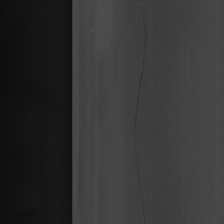inclusion: (131, 11, 156, 205)
